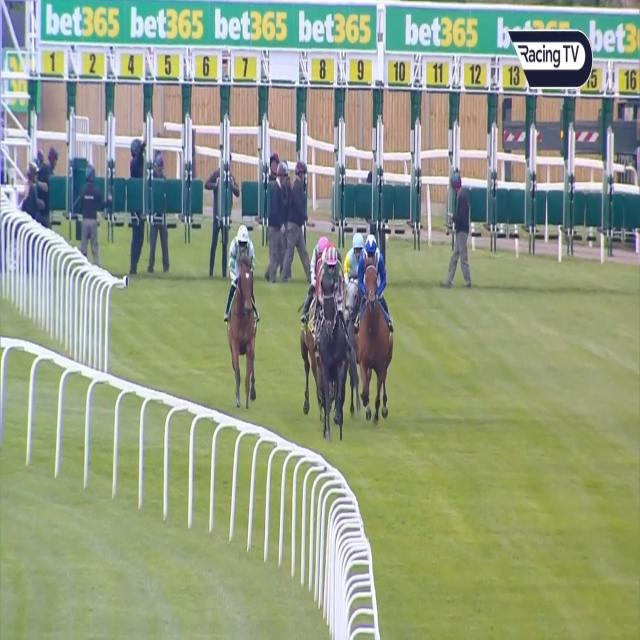horses-racing: (360, 228, 391, 428), (228, 220, 260, 407), (318, 246, 342, 415), (342, 231, 368, 334), (312, 232, 324, 290)
